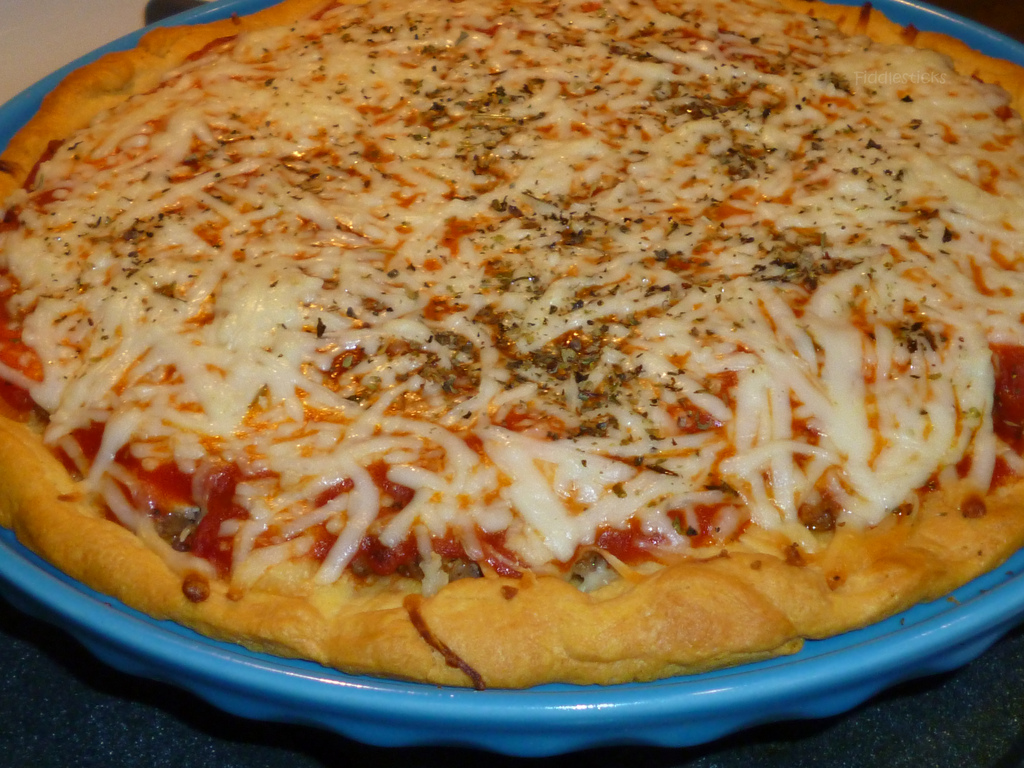slice of bread: (38, 547, 1024, 681)
